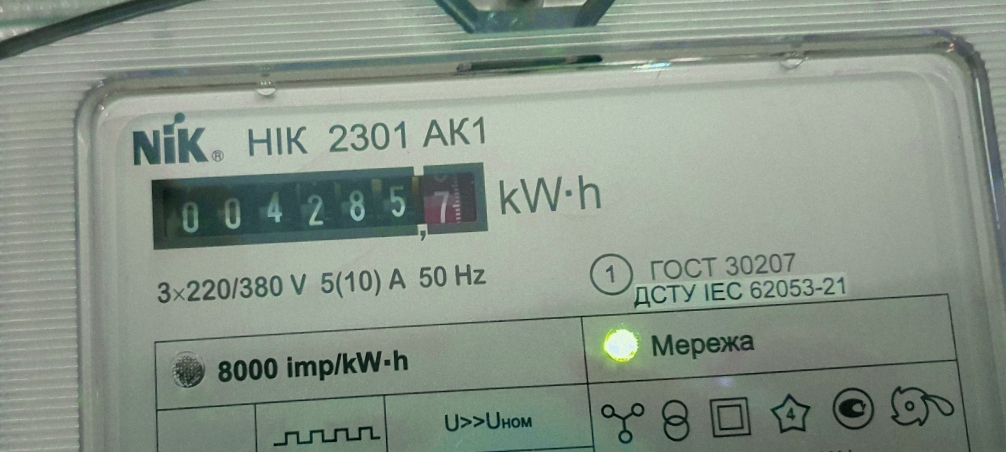0: (221, 193, 244, 231), (179, 197, 201, 234)
2: (305, 191, 325, 227)
4: (265, 188, 283, 224)
5: (386, 181, 408, 218)
7: (431, 188, 452, 224)
8: (345, 186, 367, 224)
screen: (135, 150, 503, 262)
